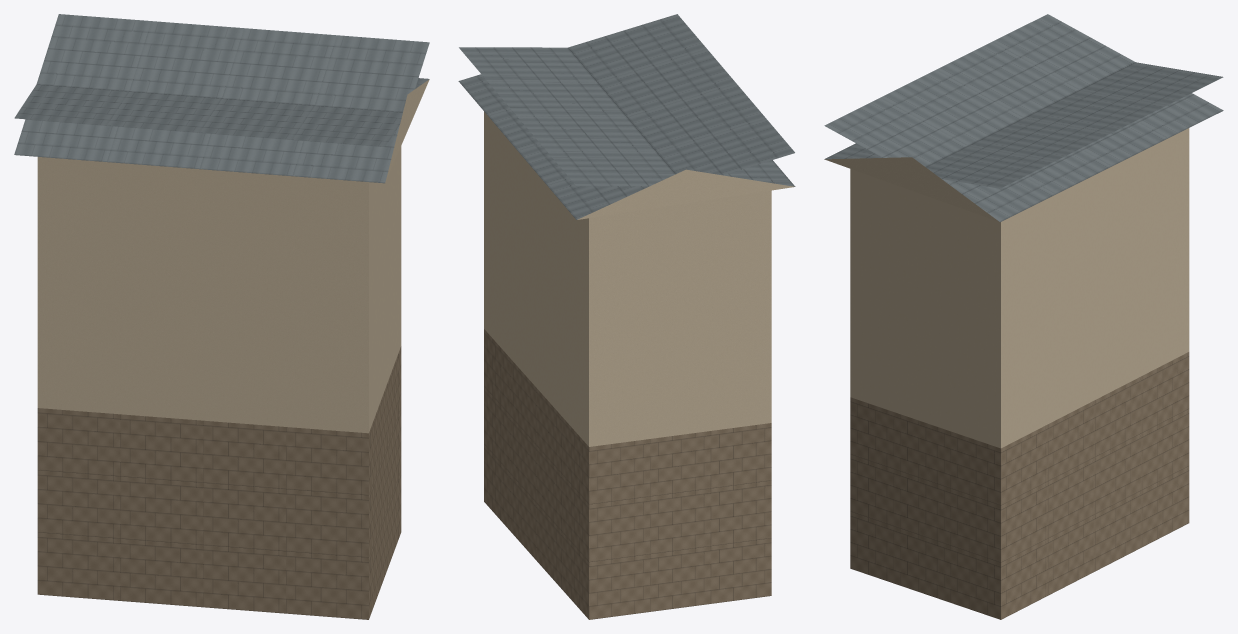
The model's file is bld_c2_-18_700.gltf.
3 views of the same model, side by side, from view 1: azimuth 30°, elevation 25°; view 2: azimuth 150°, elevation 25°; view 3: azimuth 270°, elevation 25° (orthographic). The views are drawn at different scales.
Visible parts, largest first — view 1: bld_c2_-18_700; view 2: bld_c2_-18_700; view 3: bld_c2_-18_700.
Part boxes in pixels (bbox=[...]): bld_c2_-18_700: bbox=[14, 14, 429, 619]; bld_c2_-18_700: bbox=[458, 14, 795, 619]; bld_c2_-18_700: bbox=[824, 14, 1223, 619].
Bounding box in the file's own units: 11.14 × 13.2 × 10.78.
Materials: 4 (4 with a texture image).
